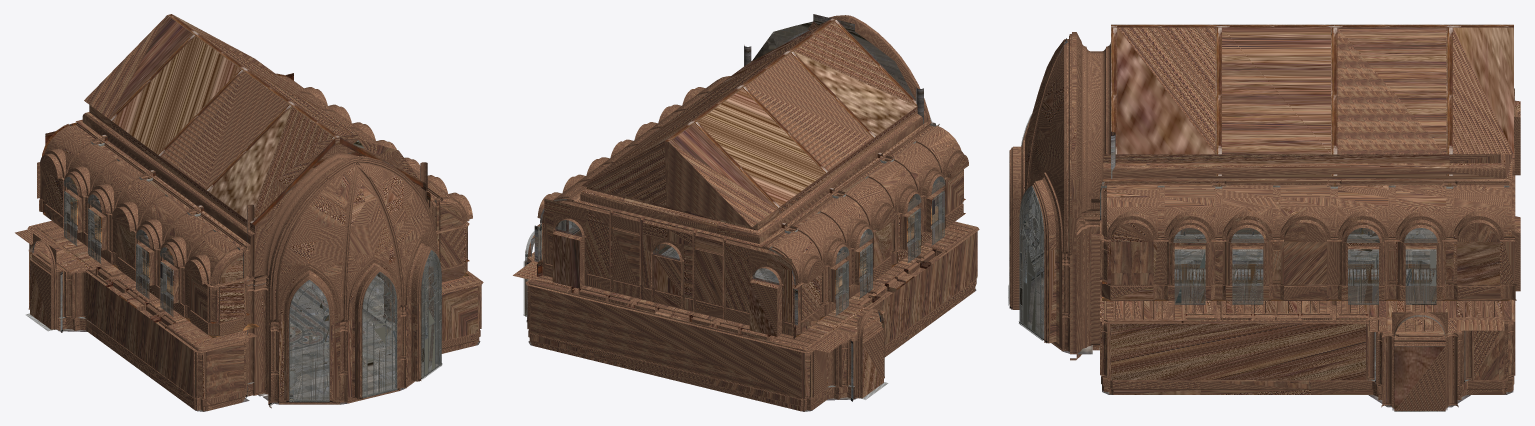
Rendered from library.glb.
3 views of the same model, side by side, from view 1: azimuth 30°, elevation 25°; view 2: azimuth 150°, elevation 25°; view 3: azimuth 270°, elevation 25° (orthographic). The views are drawn at different scales.
Visible parts, largest first — view 1: Material2 (×2), Material3 (×9); view 2: Material2 (×2), Material3 (×5); view 3: Material2 (×2), Material3 (×6).
Part boxes in pixels (x1=…): Material2 (×2): x1=15, y1=15, x2=483, y2=411; Material3 (×9): x1=30, y1=14, x2=481, y2=411; Material2 (×2): x1=513, y1=15, x2=979, y2=411; Material3 (×5): x1=526, y1=14, x2=965, y2=401; Material2 (×2): x1=1008, y1=27, x2=1520, y2=411; Material3 (×6): x1=1009, y1=24, x2=1513, y2=410.
Size of the model in its own units: 4.48 by 3 by 4.82.
Materials: 19 (18 with a texture image).
